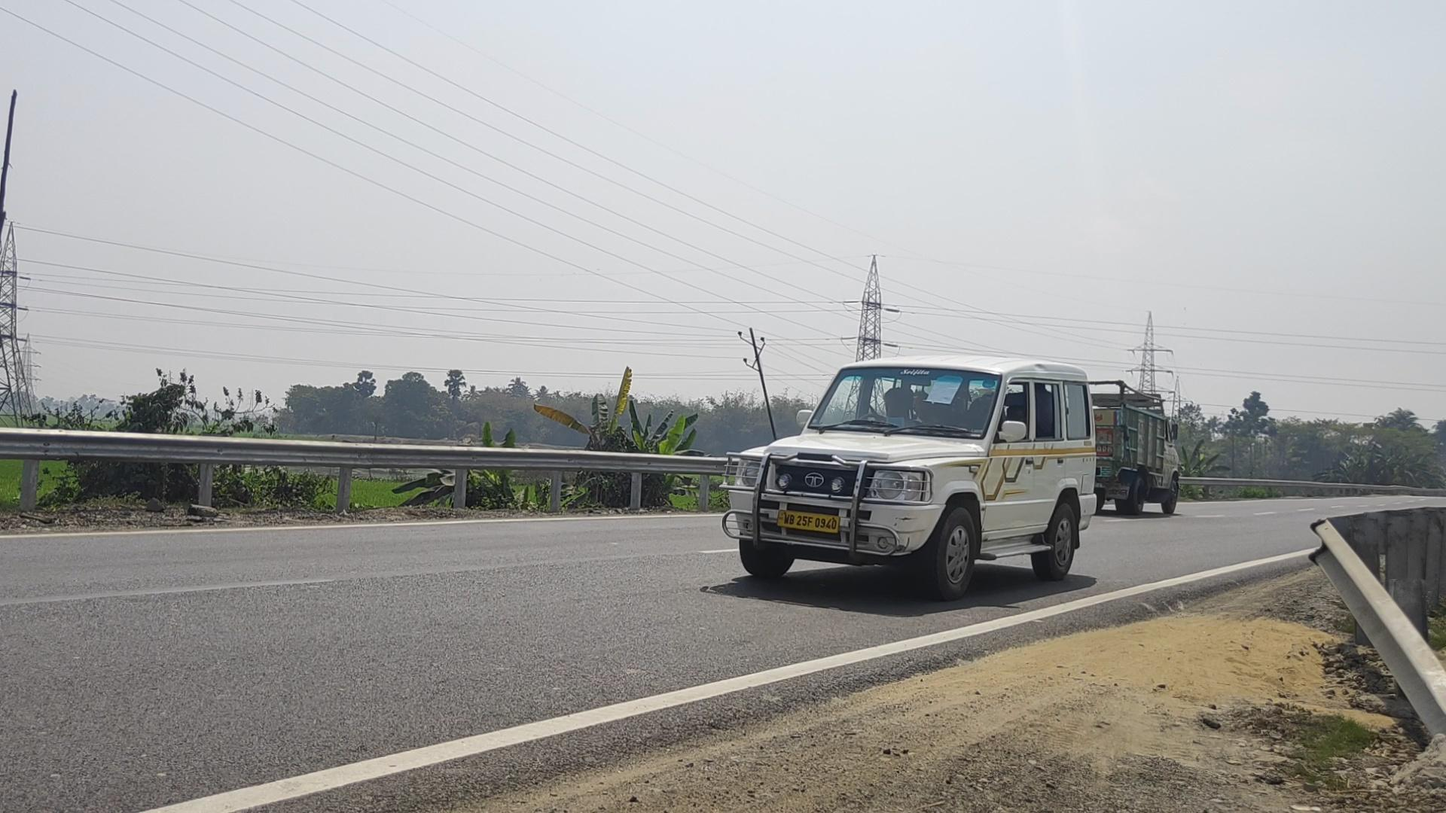car: (720, 355, 1097, 601)
truck: (1065, 379, 1182, 516)
